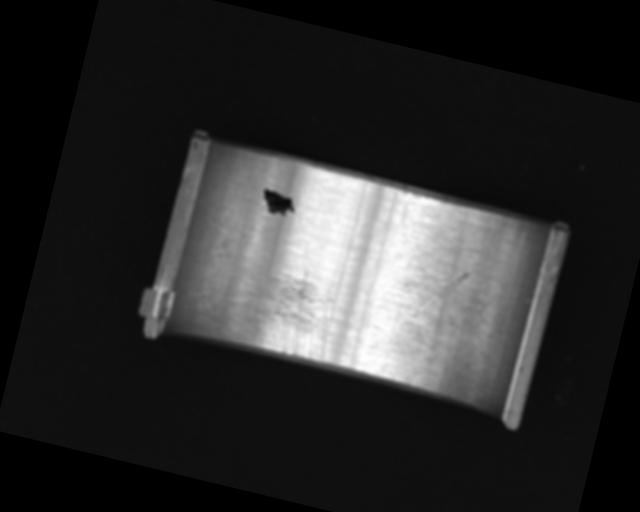blot: (258, 186, 300, 219)
nick: (416, 262, 472, 328)
scratch: (207, 251, 342, 367)
